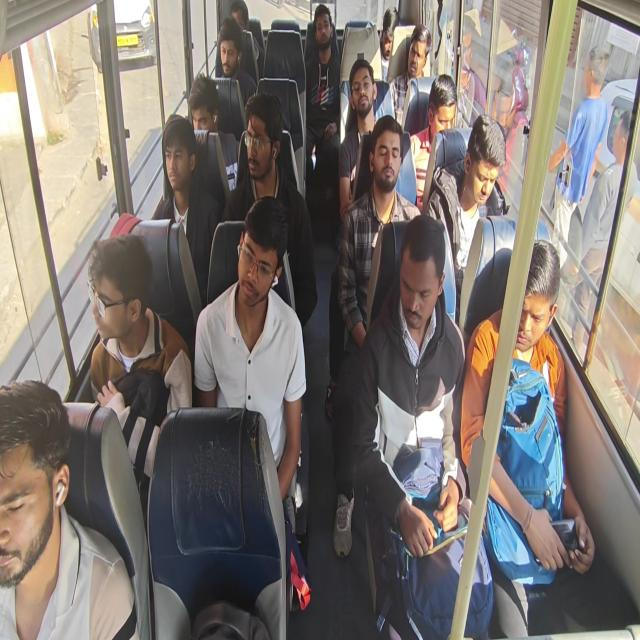person: (0, 381, 68, 585), (84, 252, 151, 346), (506, 259, 558, 354), (233, 218, 281, 317), (399, 227, 444, 331), (466, 130, 502, 208), (164, 128, 203, 194), (245, 105, 277, 182), (426, 82, 460, 148), (183, 75, 220, 132), (373, 130, 401, 190), (349, 61, 377, 118), (407, 21, 432, 80), (218, 38, 244, 84), (376, 16, 399, 57), (226, 0, 253, 31), (316, 14, 334, 54)
